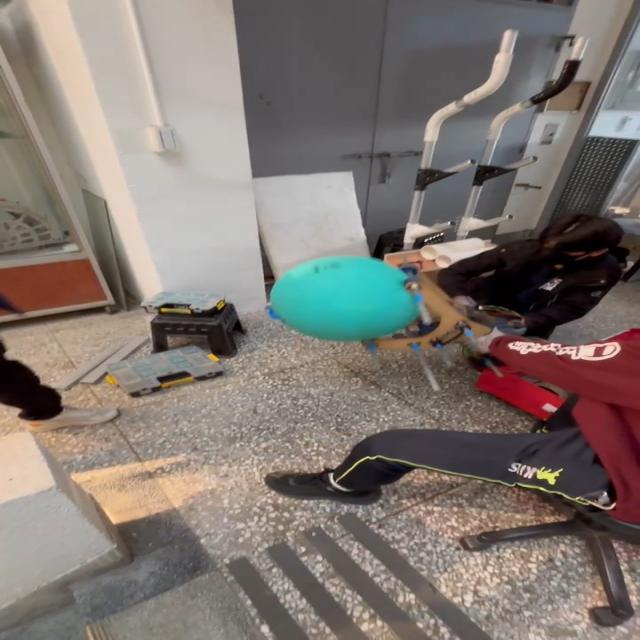ALGAE: (267, 255, 421, 342)
